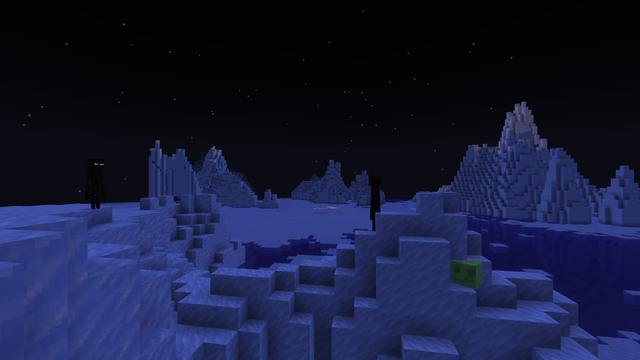endermens: (85, 157, 104, 207), (369, 174, 381, 231)
slimes: (454, 256, 484, 287)
